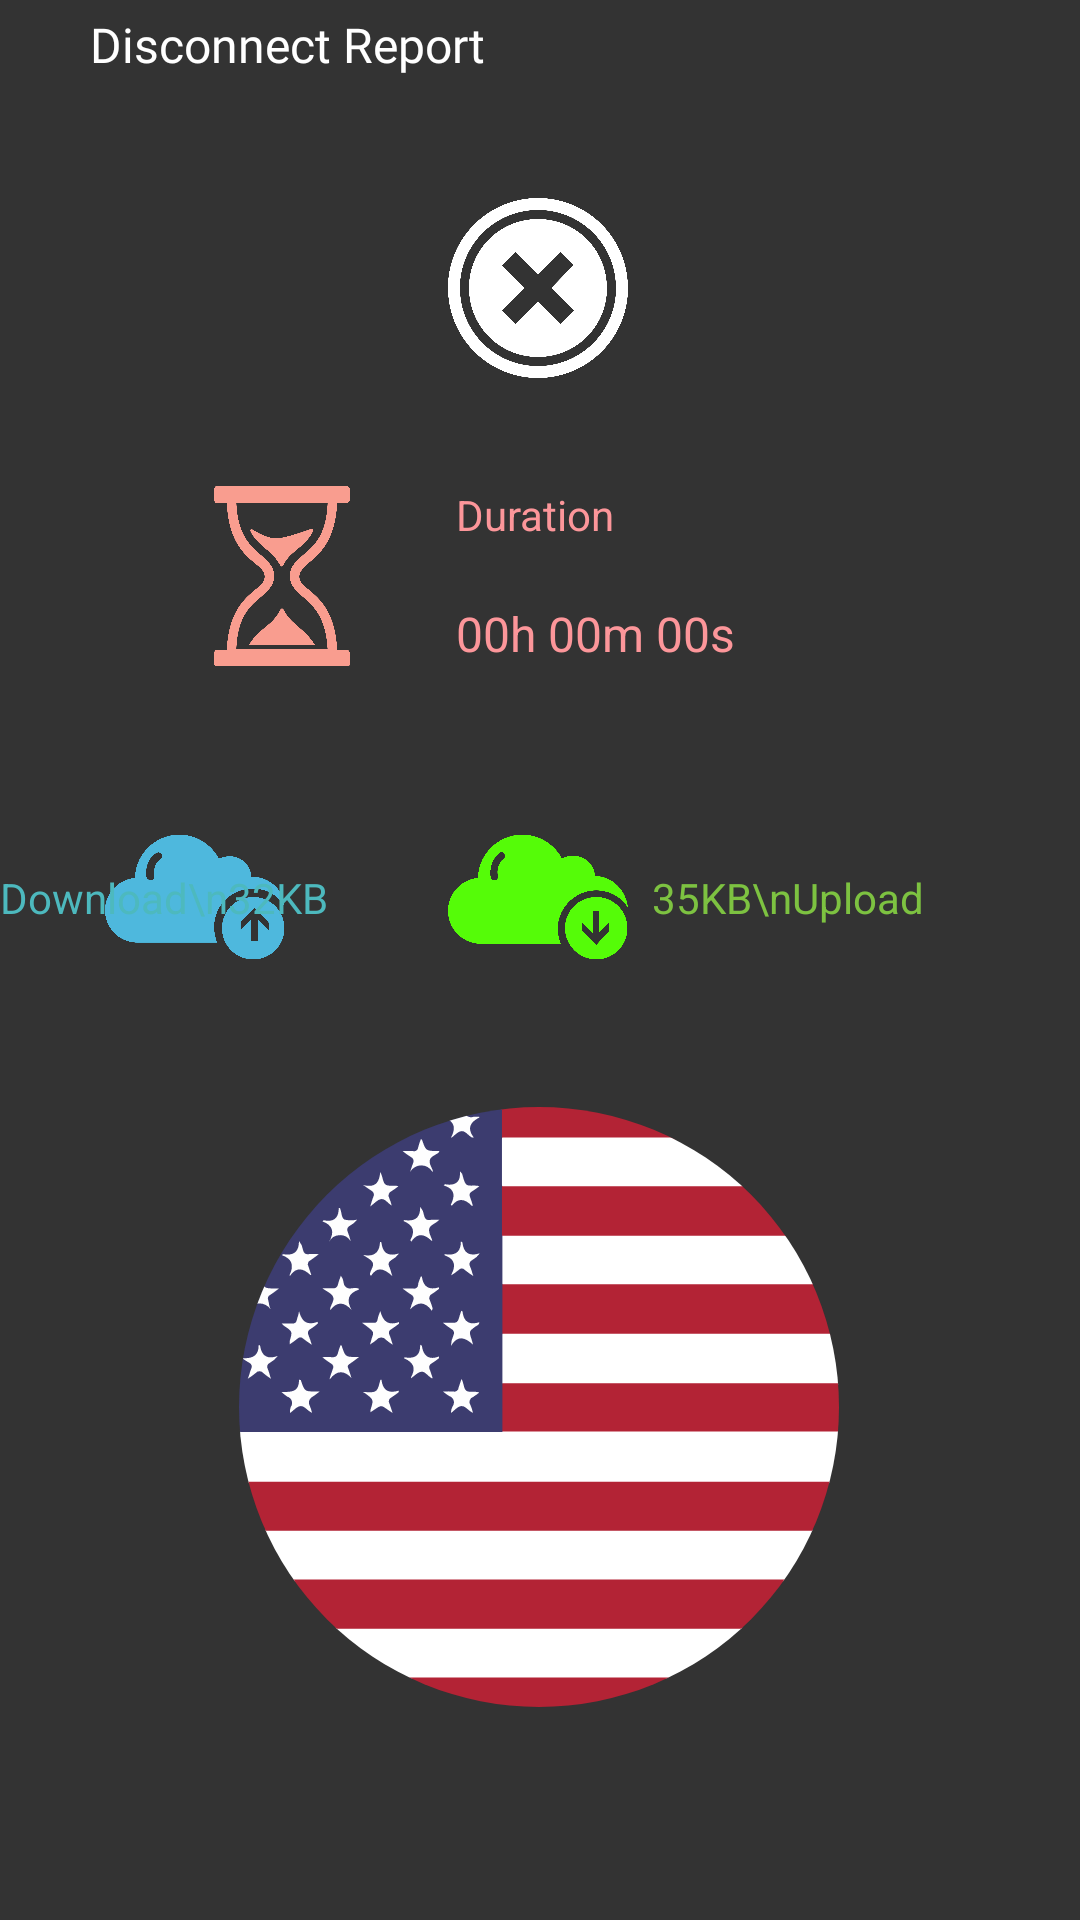

Screen size 1080x1920. Icon name, then its center in pixels as point (x, y):
close: point (538, 288)
